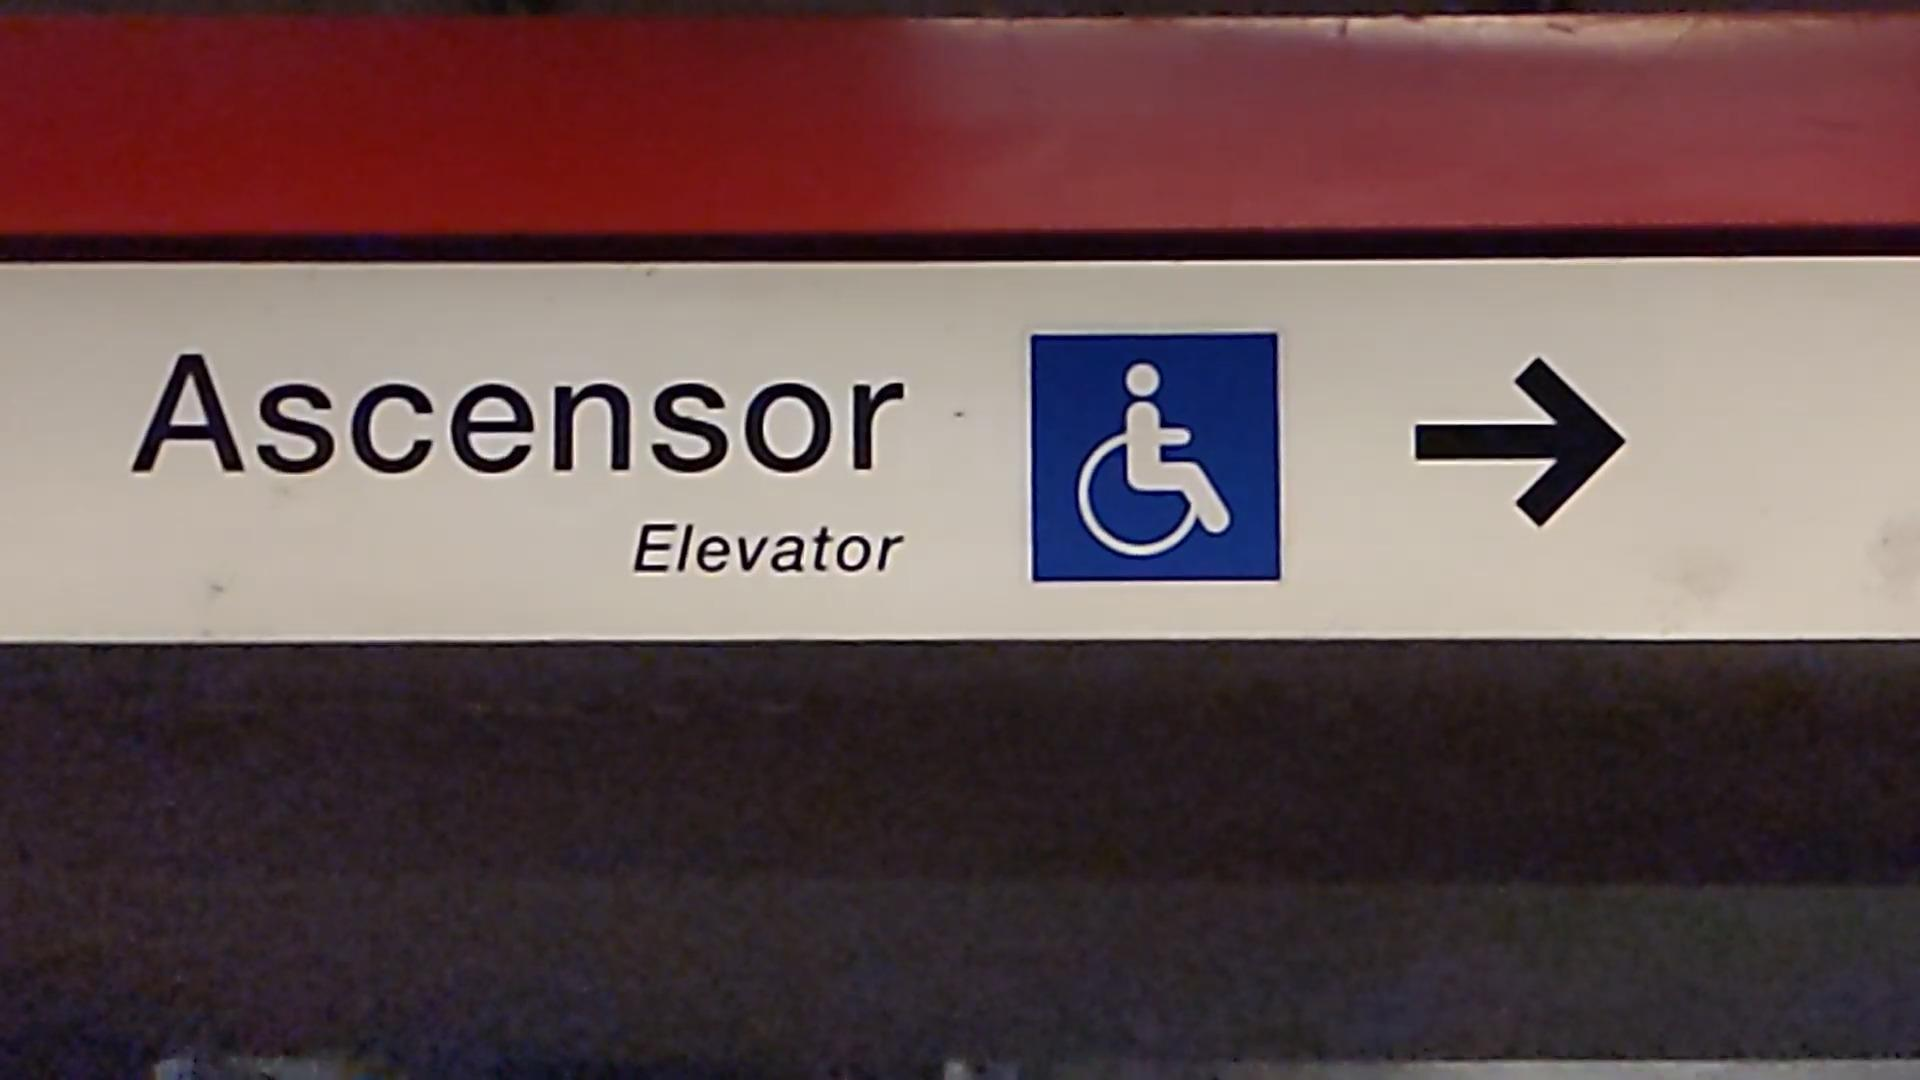handicapped symbol: (1065, 360, 1237, 558)
right arrow: (1407, 349, 1634, 533)
